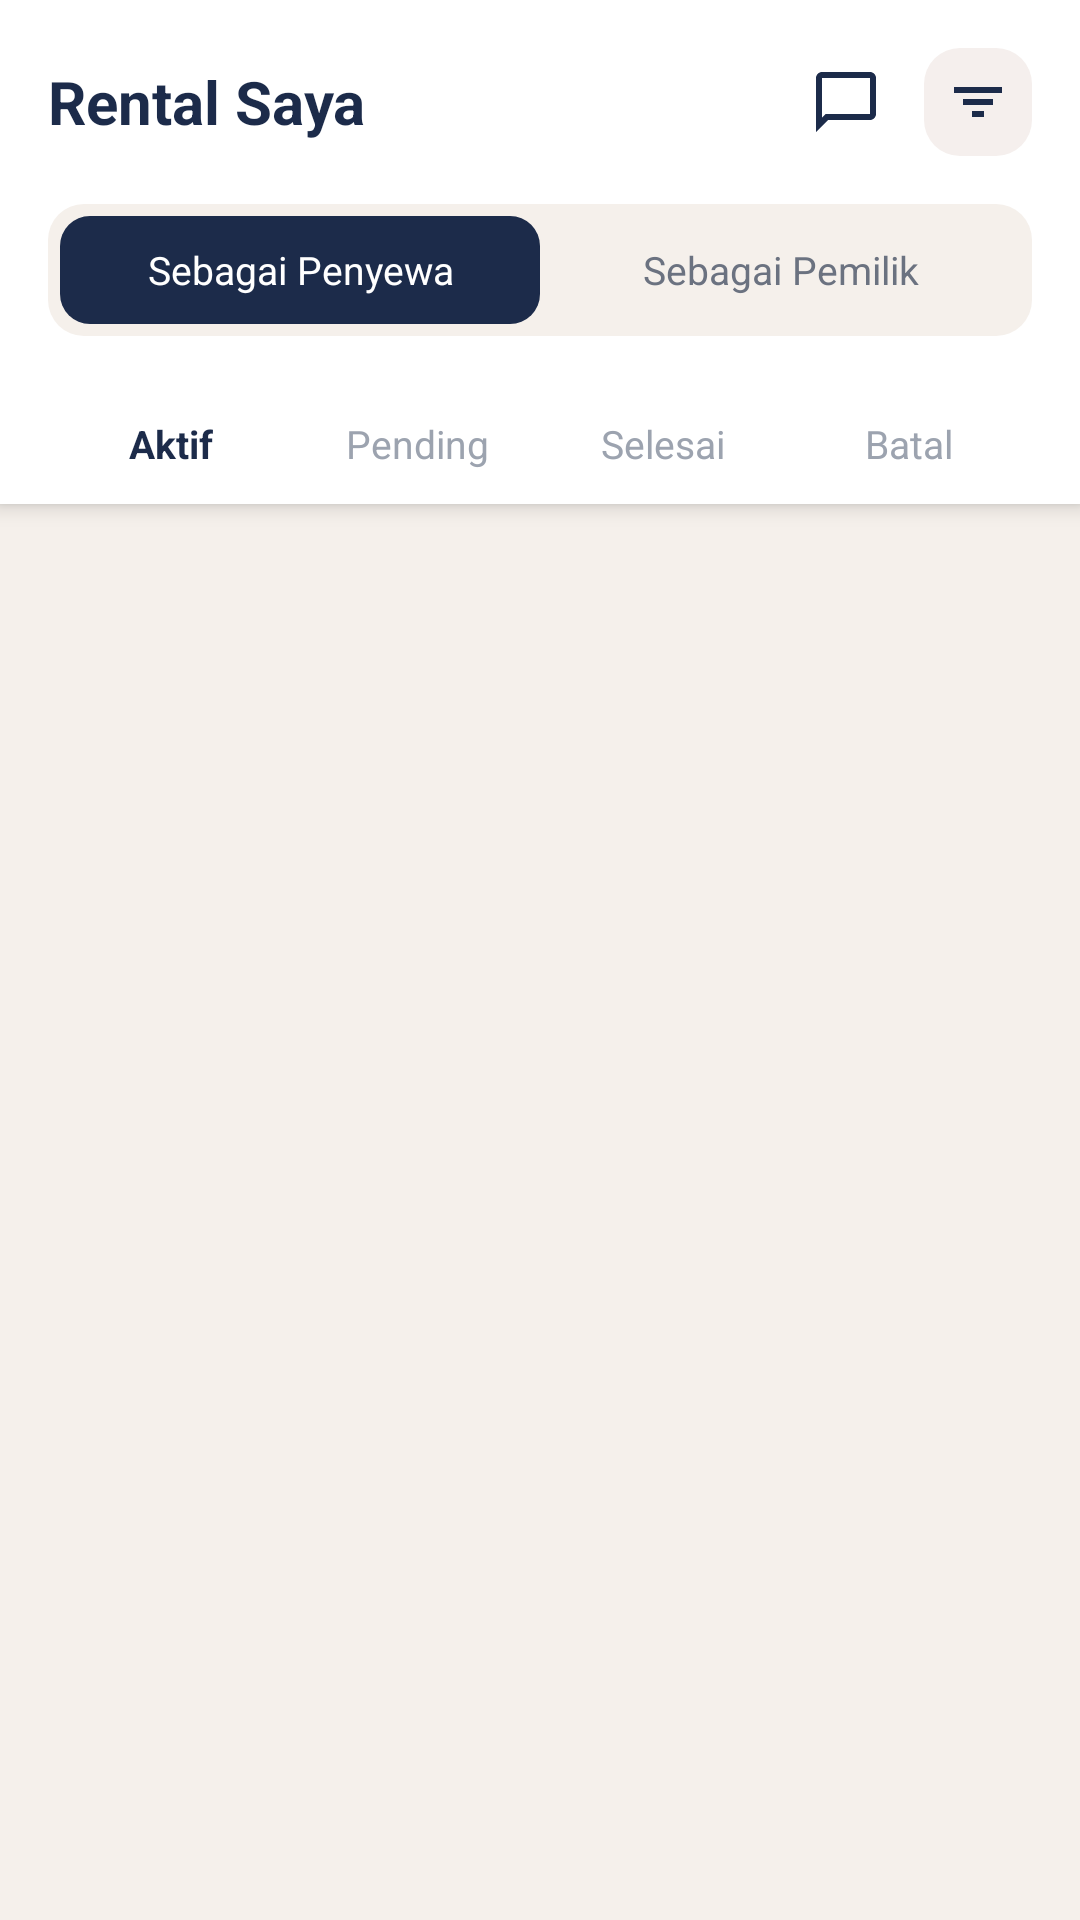

Screen size 1080px×1920px. Icon name, then its box in pixels as box(x1, y1, x2, y2):
chat: box(816, 72, 876, 132)
filter: box(924, 48, 1032, 156)
